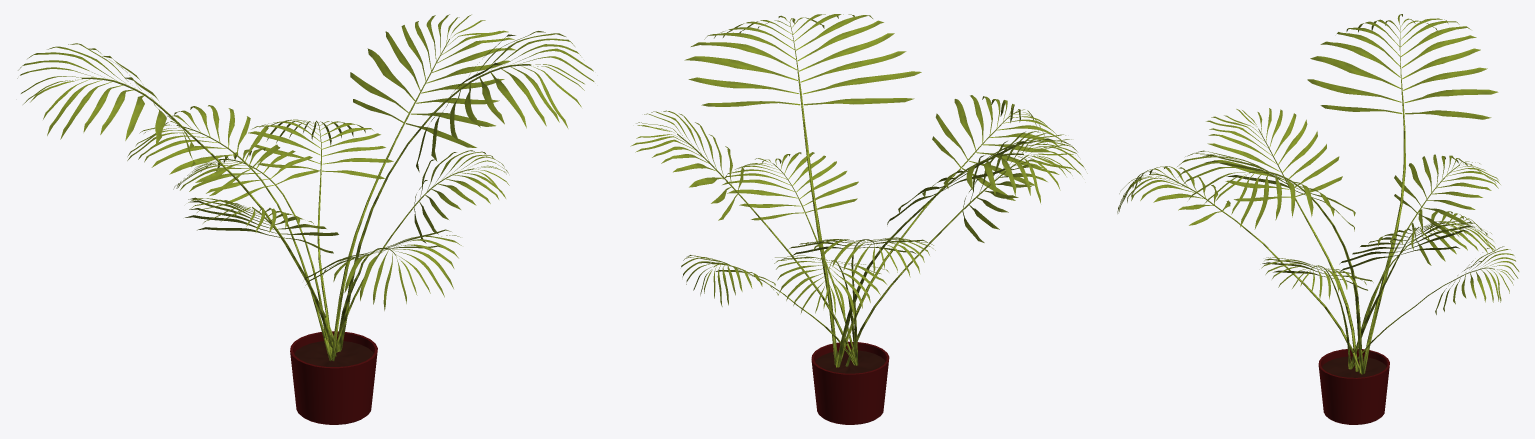
Rendered from plant.fbx.
The picture shows the model from 3 angles, left to right: view 1: azimuth 30°, elevation 25°; view 2: azimuth 150°, elevation 25°; view 3: azimuth 270°, elevation 25°; orthographic projection. The views are drawn at different scales.
Visible parts, largest first — view 1: vegetable201; view 2: vegetable201; view 3: vegetable201.
Boxes of the visible parts, <box> form: vegetable201: <box>17,14,594,424</box>; vegetable201: <box>630,14,1087,424</box>; vegetable201: <box>1117,14,1519,424</box>.
Bounding box in the file's own units: 5.79 × 4.21 × 5.13.
4 materials, 2 textured.
